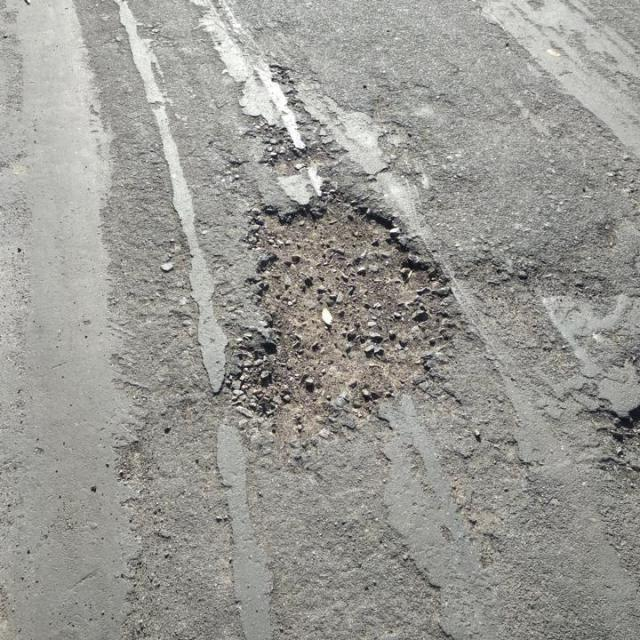pothole: (224, 187, 460, 447)
